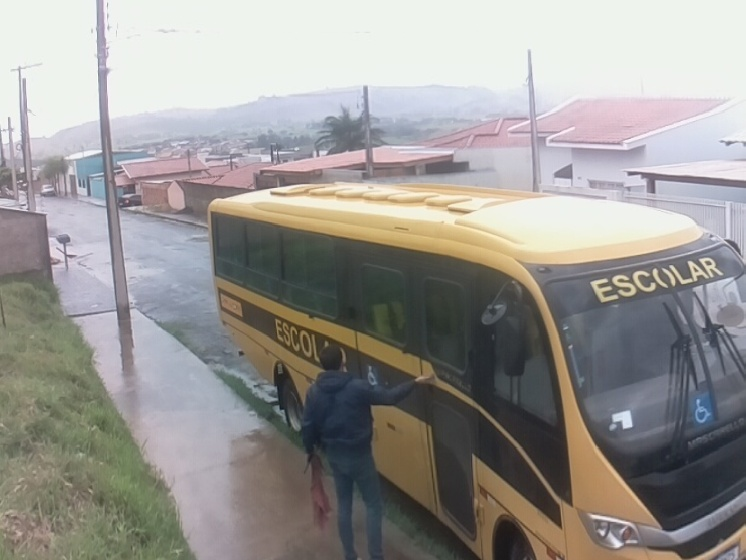person: (297, 345, 435, 560)
